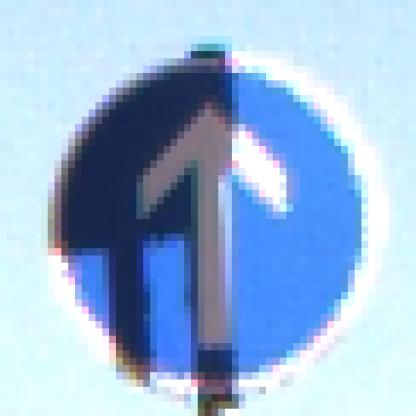AheadOnly: (42, 45, 383, 380)
